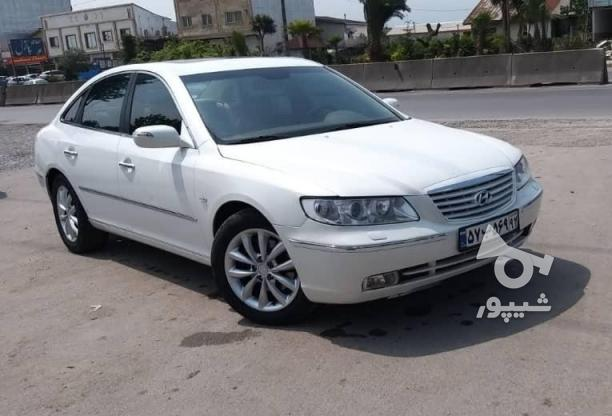car: (454, 208, 520, 252)
